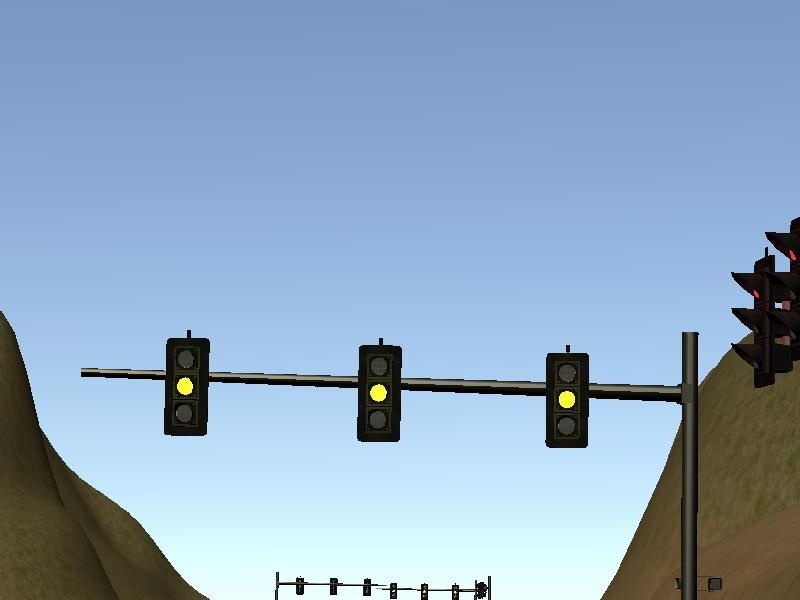YELLOW: (540, 352, 590, 451), (354, 344, 404, 443), (160, 337, 210, 436)
